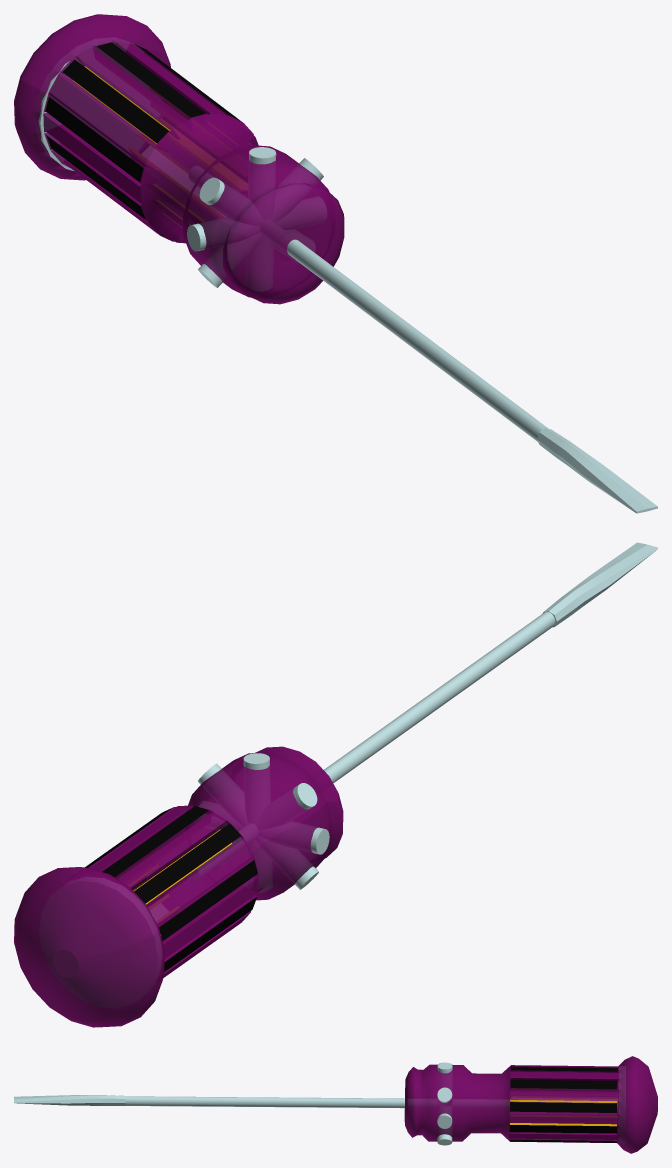
The model's file is ScrewDriver2nd.fbx.
3 renders of one model, top to bottom at view 1: azimuth 30°, elevation 25°; view 2: azimuth 150°, elevation 25°; view 3: azimuth 270°, elevation 25°, orthographic. The views are drawn at different scales.
Parts seen in each view (by area): view 1: pCylinder1, pCylinder2, pCylinder8, pCylinder5, pCylinder3, pCylinder7, pCylinder4, pCylinder6; view 2: pCylinder1, pCylinder8, pCylinder2, pCylinder7, pCylinder3, pCylinder5, pCylinder4, pCylinder6; view 3: pCylinder1, pCylinder2, pCylinder3, pCylinder8, pCylinder5, pCylinder4, pCylinder6, pCylinder7.
Boxes of the visible parts, x1,y1,x2,y2 form: pCylinder1: (14,14,344,304); pCylinder2: (189,166,548,441); pCylinder8: (35,38,159,171); pCylinder5: (246,147,276,297); pCylinder3: (537,428,657,513); pCylinder7: (198,158,323,287); pCylinder4: (187,197,326,251); pCylinder6: (199,177,314,263); pCylinder1: (14,746,343,1027); pCylinder8: (39,877,161,1007); pCylinder2: (188,612,555,880); pCylinder7: (198,763,318,889); pCylinder3: (542,542,657,627); pCylinder5: (243,753,272,900); pCylinder4: (195,801,329,854); pCylinder6: (219,783,317,865); pCylinder1: (404,1056,657,1153); pCylinder2: (125,1096,509,1108); pCylinder3: (14,1095,125,1105); pCylinder8: (619,1066,625,1142); pCylinder5: (437,1063,452,1090); pCylinder4: (437,1106,452,1128); pCylinder6: (437,1062,452,1145); pCylinder7: (437,1087,452,1105).
Bounding box in the file's own units: 3.82 × 3.82 × 25.33.
